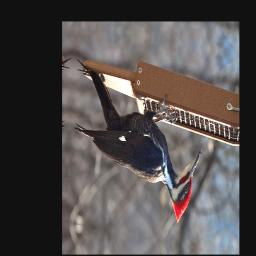Woodpecker: (67, 59, 207, 229)
